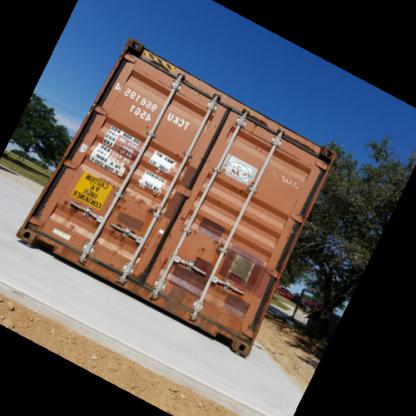Damage: (110, 192, 154, 221), (184, 226, 221, 260), (57, 190, 69, 208), (60, 218, 80, 228)
